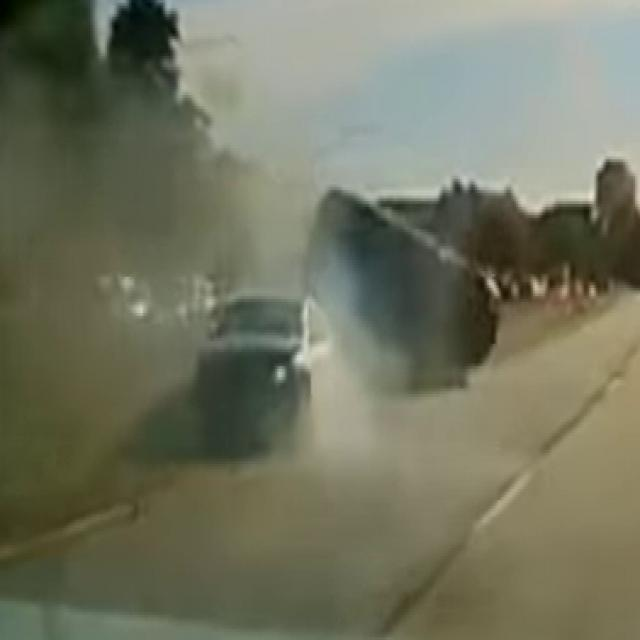accident: (310, 168, 501, 398)
